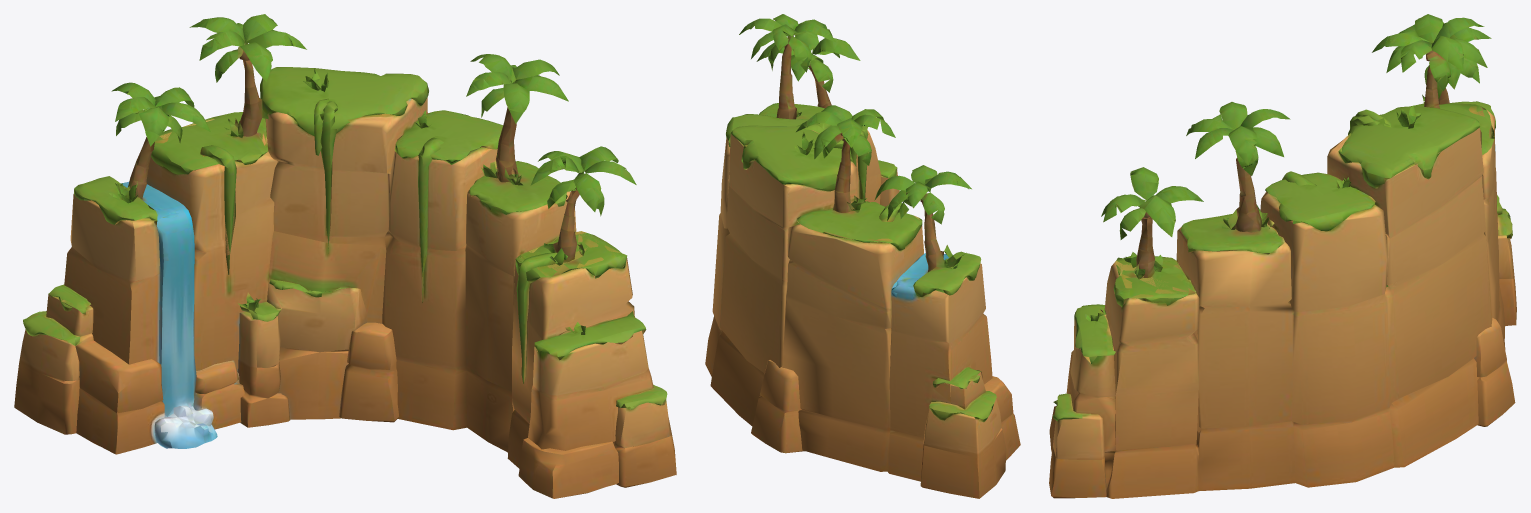
The model's file is playa_acantilado_curvo.glb.
3 views of the same model, side by side, from view 1: azimuth 30°, elevation 25°; view 2: azimuth 150°, elevation 25°; view 3: azimuth 270°, elevation 25° (orthographic). The views are drawn at different scales.
Visible parts, largest first — view 1: tripo_node_ae0c3f58-03b3-43ef-859c-2e1bbaa3078c; view 2: tripo_node_ae0c3f58-03b3-43ef-859c-2e1bbaa3078c; view 3: tripo_node_ae0c3f58-03b3-43ef-859c-2e1bbaa3078c.
Part boxes in pixels (x1=…): tripo_node_ae0c3f58-03b3-43ef-859c-2e1bbaa3078c: x1=14, y1=14, x2=676, y2=498; tripo_node_ae0c3f58-03b3-43ef-859c-2e1bbaa3078c: x1=705, y1=14, x2=1020, y2=498; tripo_node_ae0c3f58-03b3-43ef-859c-2e1bbaa3078c: x1=1049, y1=14, x2=1516, y2=498.
Bounding box in the file's own units: 0.9953 × 0.8191 × 0.9578.
Materials: 1 (1 with a texture image).
